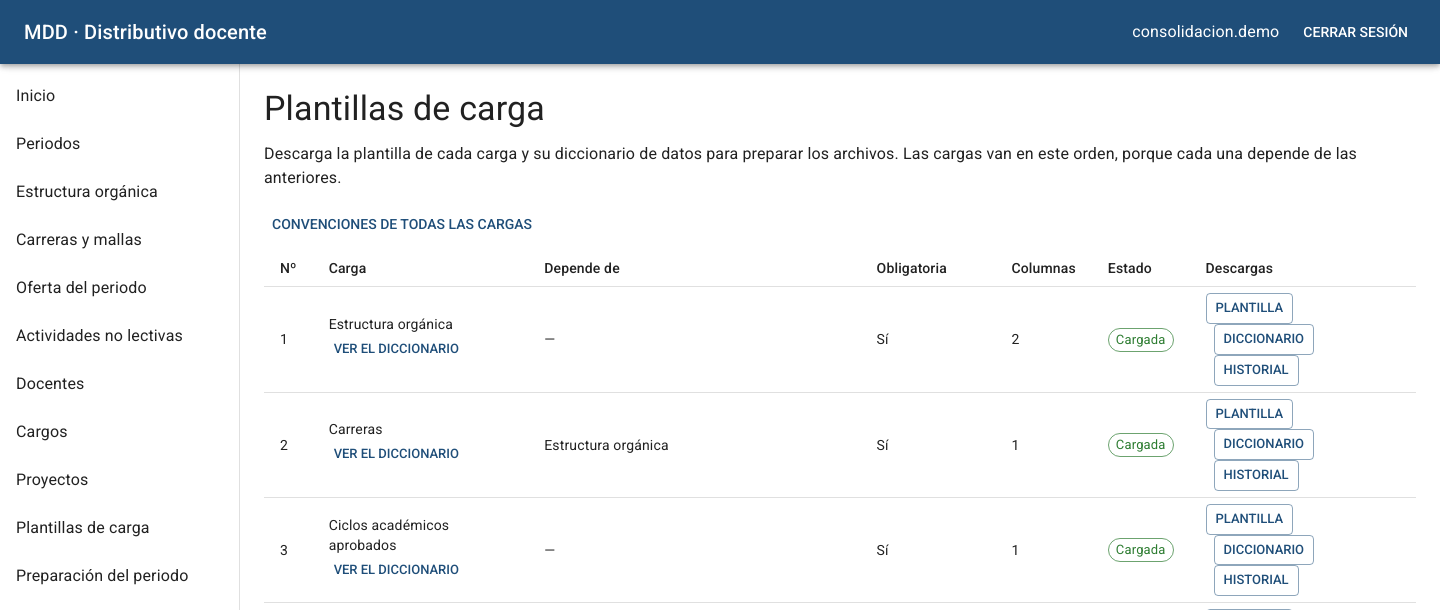
it: Plantillas de carga › si la descarga falla, muestra el título del error
Step 1. Click the button with aria-label "Descargar la plantilla de Carreras" → (1249,414), box [1206,399,1293,429]
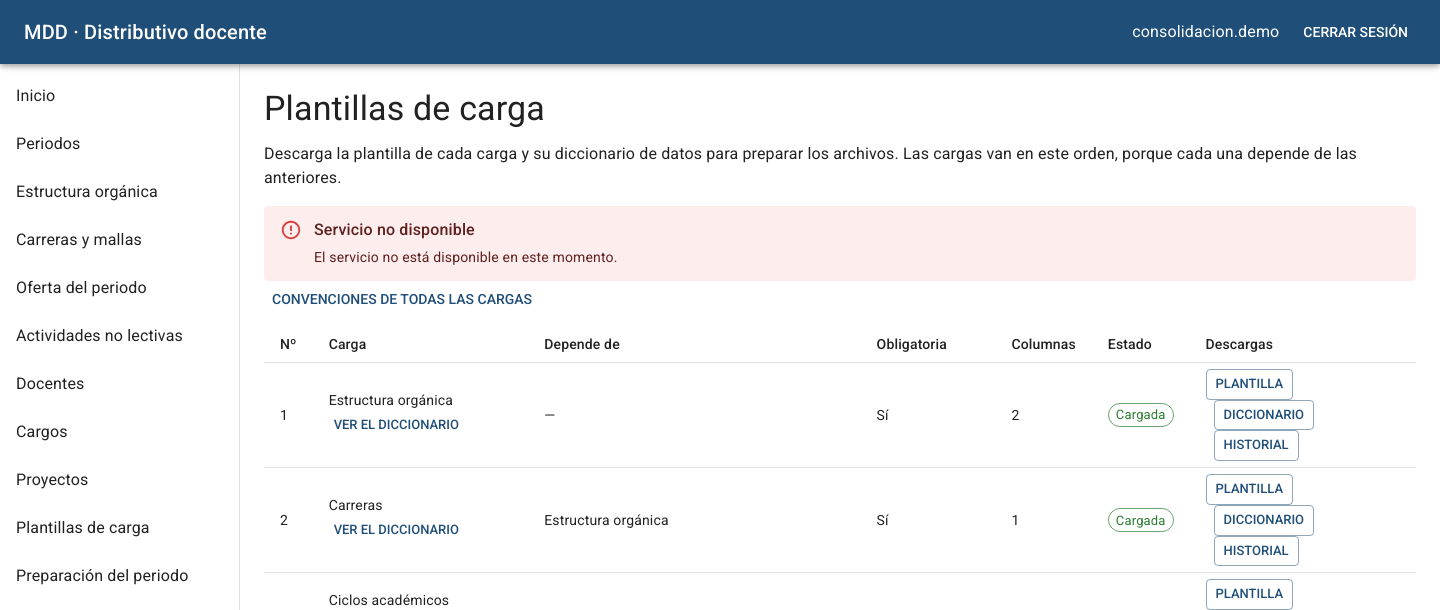
Expected: the message shows "Servicio no disponible", [314,220,475,239]
